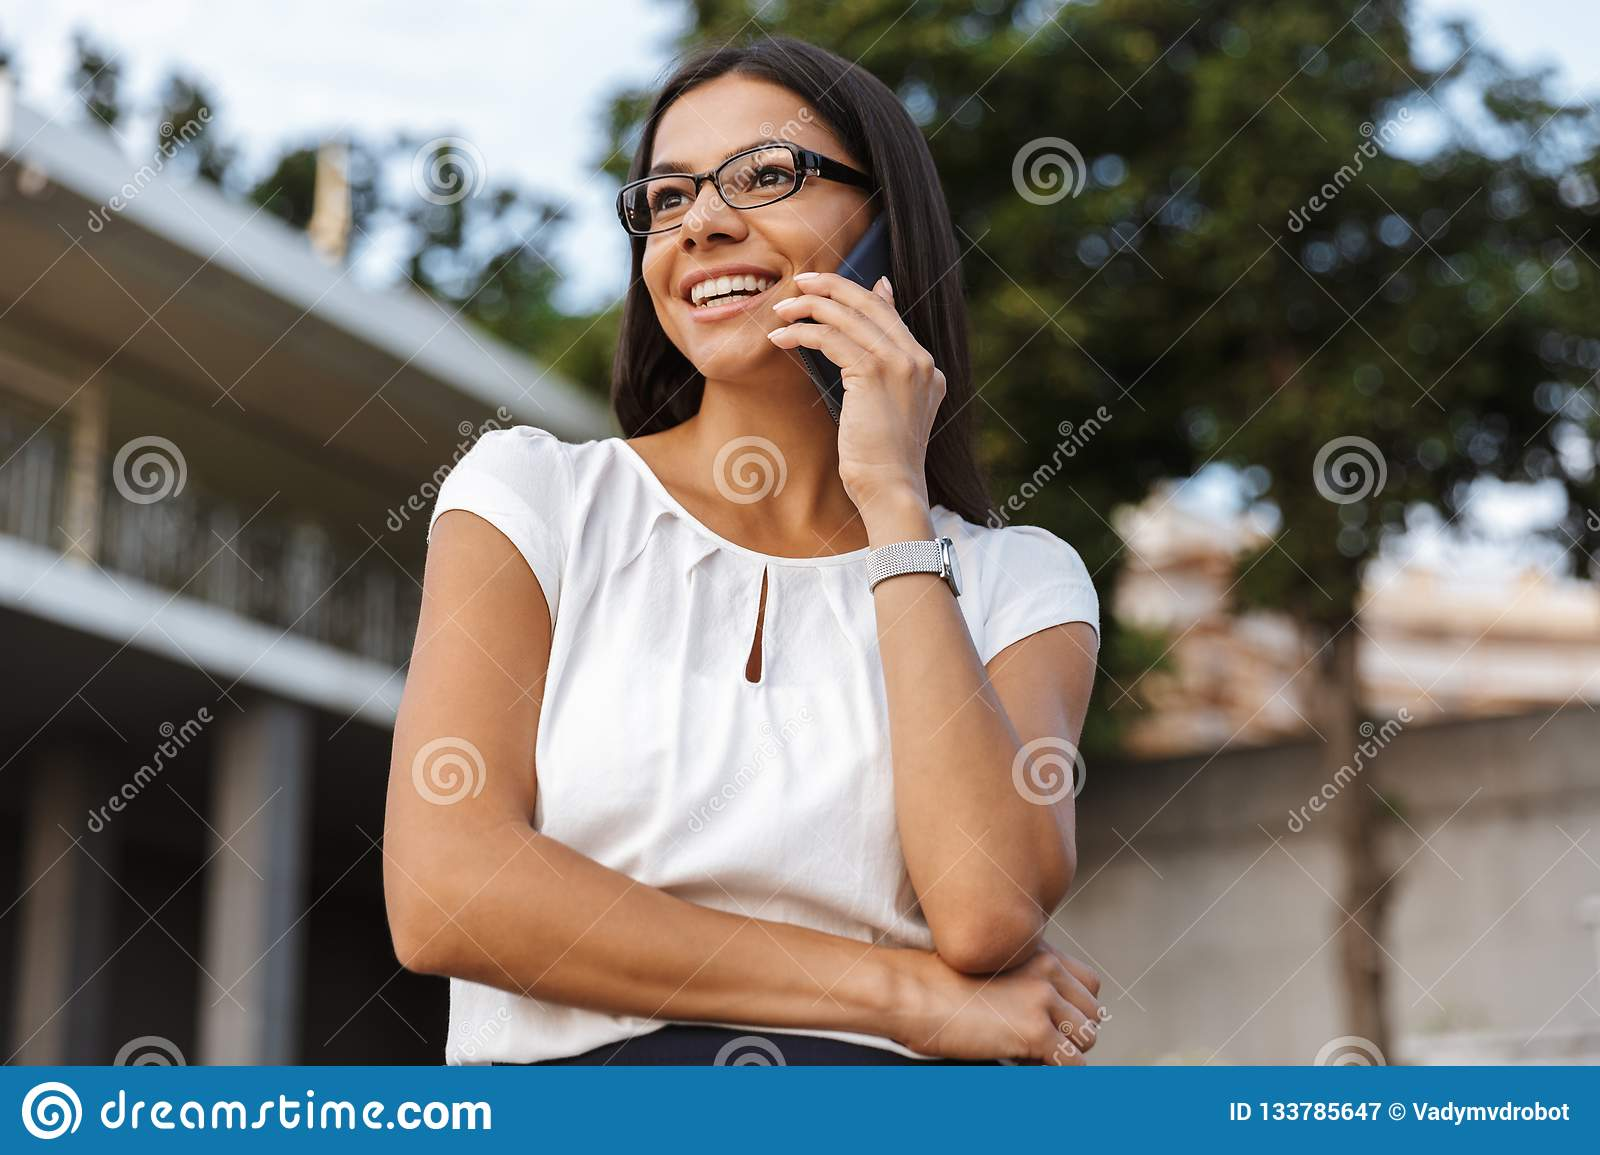phone: (796, 200, 919, 437)
talk: (639, 137, 949, 533)
